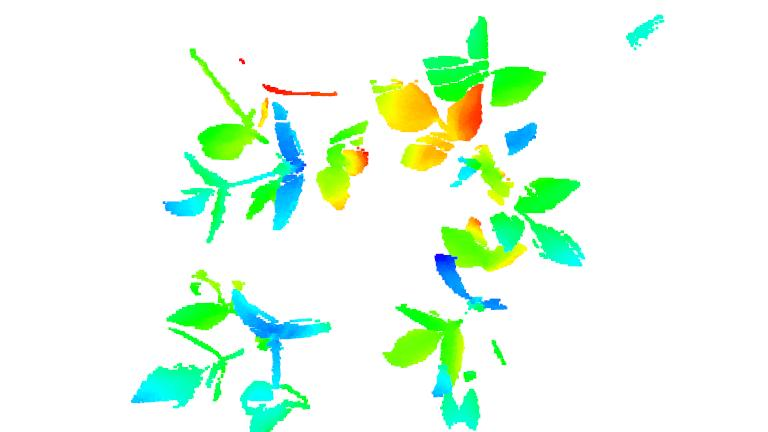mungbean: (360, 18, 589, 269), (154, 45, 373, 247), (123, 268, 338, 432), (380, 253, 521, 430)
